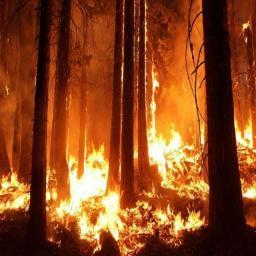Large fire: (1, 1, 256, 256)
